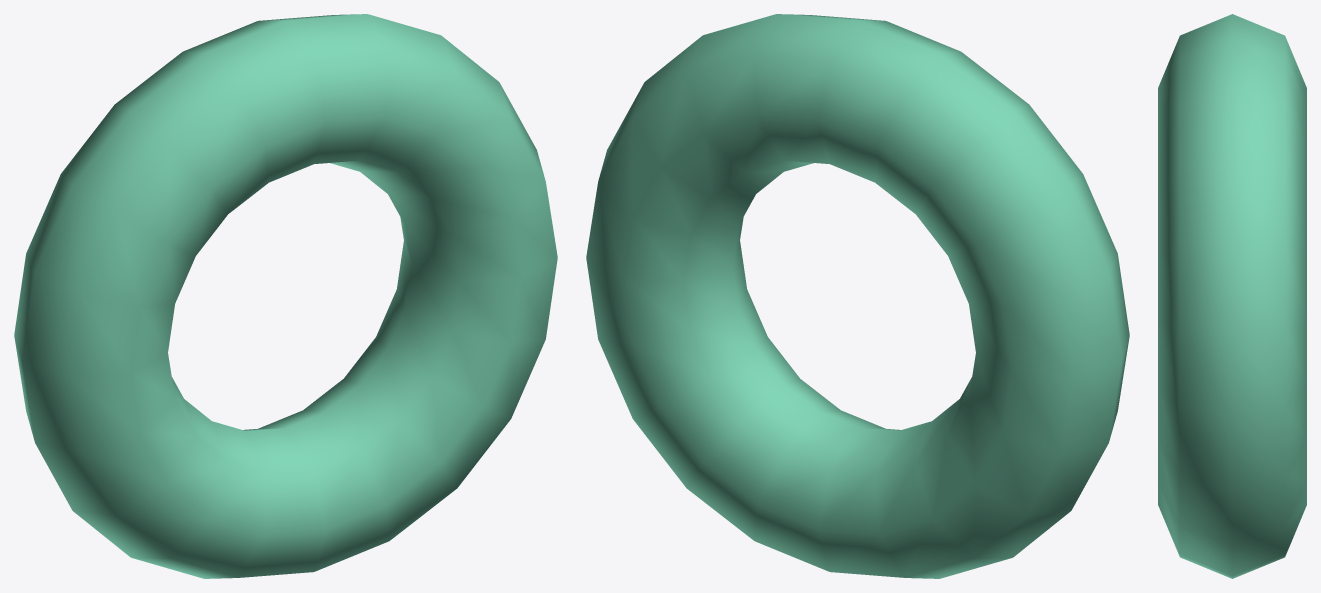
The model's file is ring-low.glb.
3 views of the same model, side by side, from view 1: azimuth 30°, elevation 25°; view 2: azimuth 150°, elevation 25°; view 3: azimuth 270°, elevation 25° (orthographic). The views are drawn at different scales.
Bounding box in the file's own units: 1.76 × 1.76 × 0.46.
